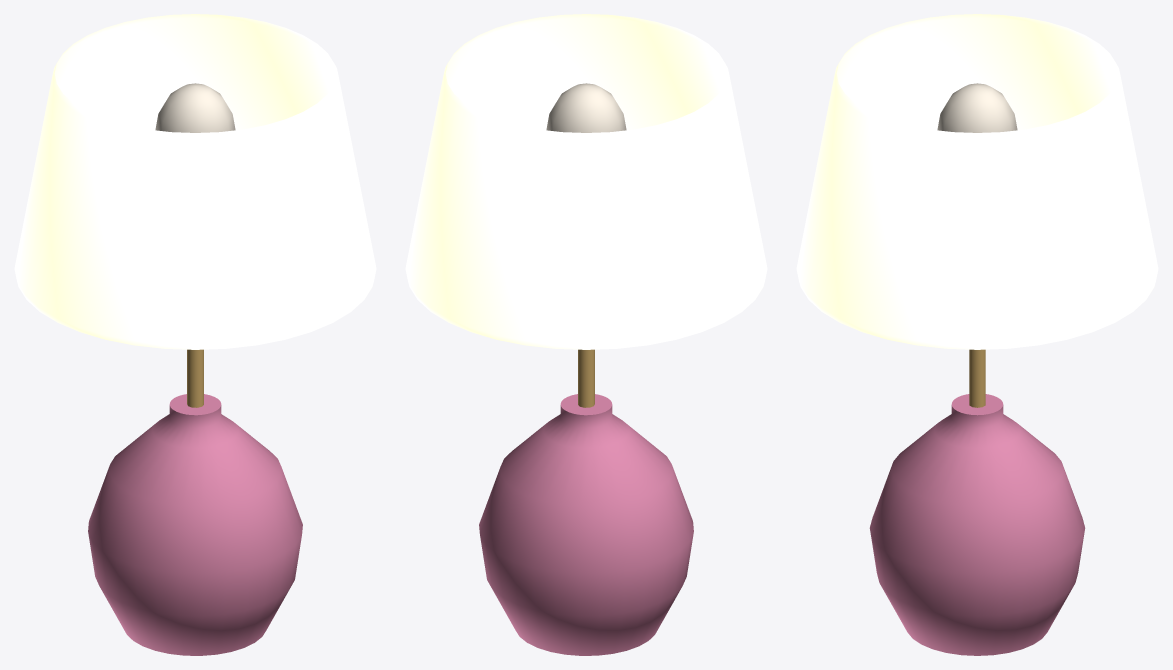
The model's file is bedside_lamp.fbx.
3 views of the same model, side by side, from view 1: azimuth 30°, elevation 25°; view 2: azimuth 150°, elevation 25°; view 3: azimuth 270°, elevation 25° (orthographic).
Parts seen in each view (by area): view 1: bedside_lamp; view 2: bedside_lamp; view 3: bedside_lamp.
Part boxes in pixels (left/top/right/bottom): bedside_lamp: left=14, top=14, right=376, bottom=655; bedside_lamp: left=405, top=14, right=767, bottom=655; bedside_lamp: left=796, top=14, right=1158, bottom=655.
Bounding box in the file's own units: 0.252 × 0.424 × 0.252.
